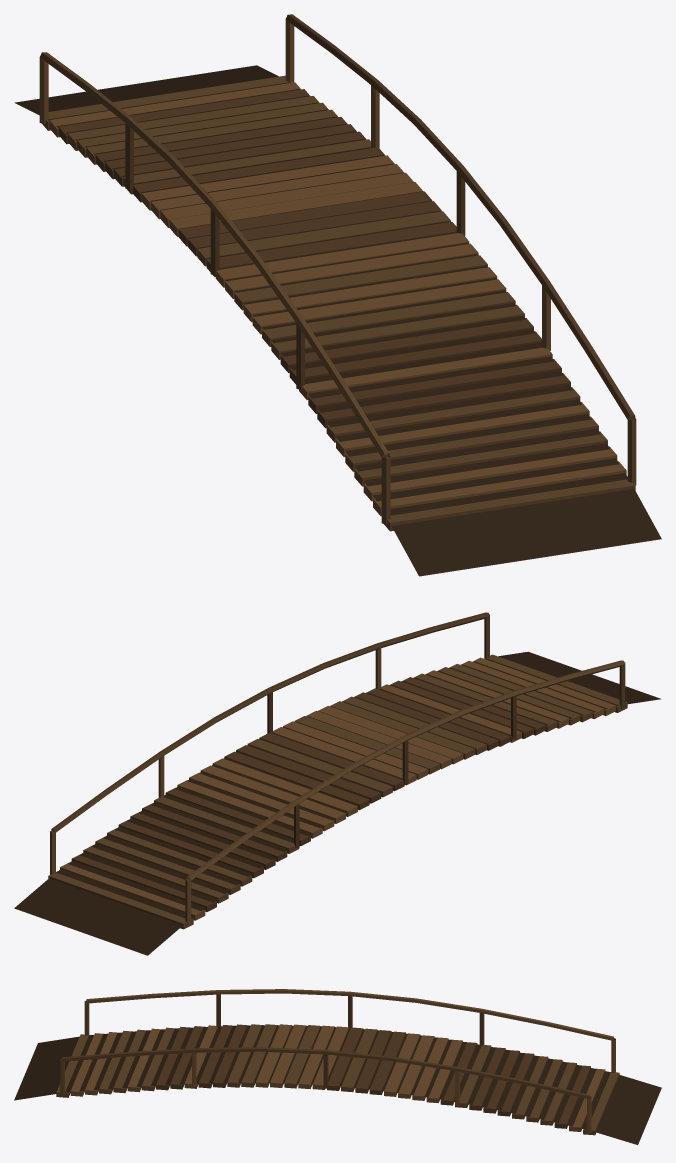
Rendered from SM_H03_Props.fbx.
The picture shows the model from 3 angles, top to bottom: view 1: azimuth 30°, elevation 25°; view 2: azimuth 150°, elevation 25°; view 3: azimuth 270°, elevation 25°; orthographic projection. The views are drawn at different scales.
Visible parts, largest first — view 1: SM_H03_Props; view 2: SM_H03_Props; view 3: SM_H03_Props.
Boxes of the visible parts, box(x1,y1,x2,y2) form: SM_H03_Props: box(14, 14, 661, 576); SM_H03_Props: box(14, 612, 661, 955); SM_H03_Props: box(14, 989, 661, 1144).
Size of the model in its own units: 5.98 by 2.08 by 15.75.
